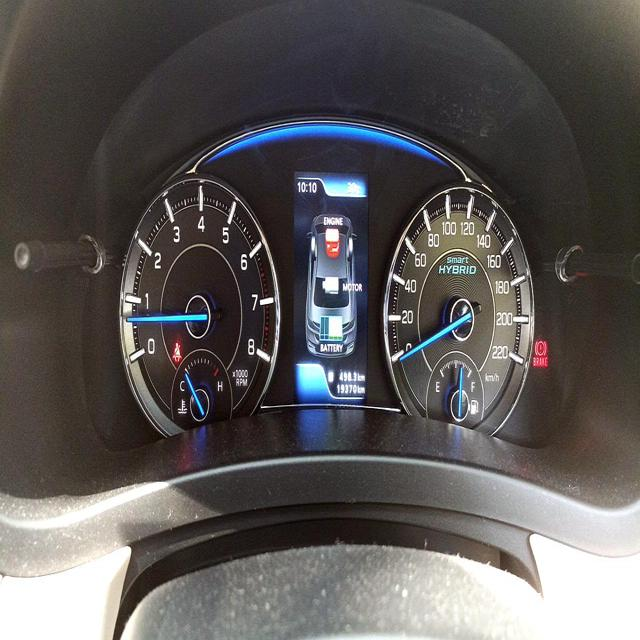odometer: (336, 380, 357, 396)
